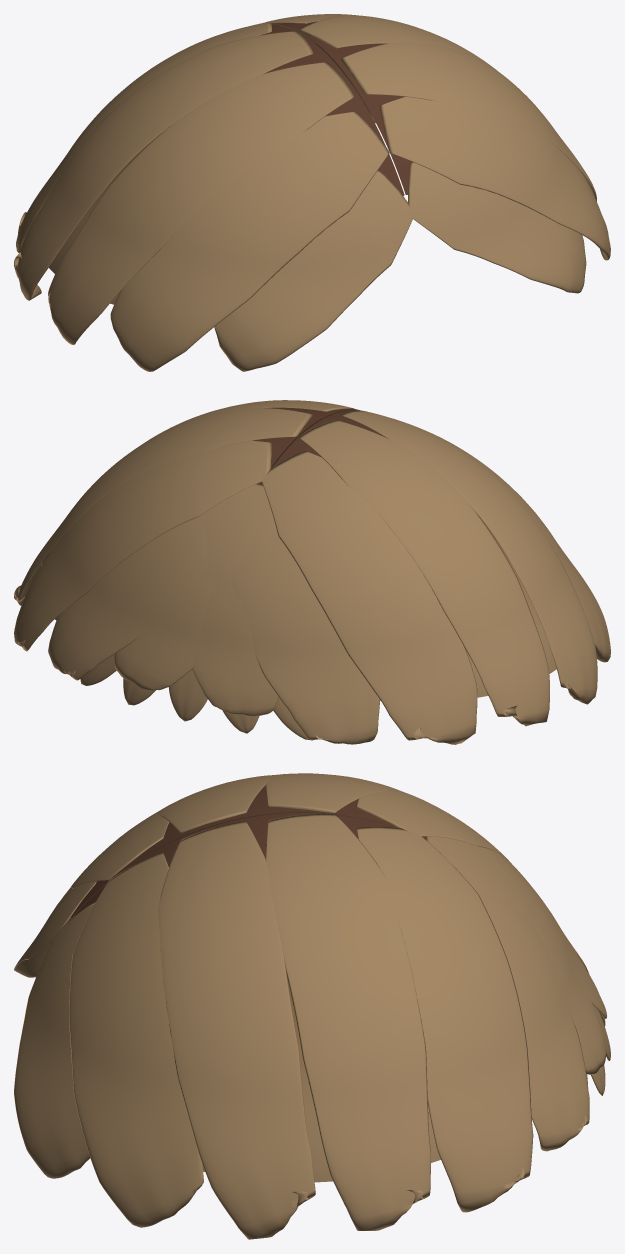
The model's file is Masculine-middle-part-cowboy260-hair-ombre.glb.
3 renders of one model, top to bottom at view 1: azimuth 30°, elevation 25°; view 2: azimuth 150°, elevation 25°; view 3: azimuth 270°, elevation 25°, orthographic. The views are drawn at different scales.
Visible parts, largest first — view 1: 226 hair / Hair260 / layered middle-part; view 2: 226 hair / Hair260 / layered middle-part; view 3: 226 hair / Hair260 / layered middle-part.
Part boxes in pixels (bbox=[...]): 226 hair / Hair260 / layered middle-part: bbox=[14, 14, 610, 371]; 226 hair / Hair260 / layered middle-part: bbox=[14, 400, 610, 744]; 226 hair / Hair260 / layered middle-part: bbox=[14, 773, 610, 1239].
Size of the model in its own units: 0.992 by 0.4101 by 0.7914.
